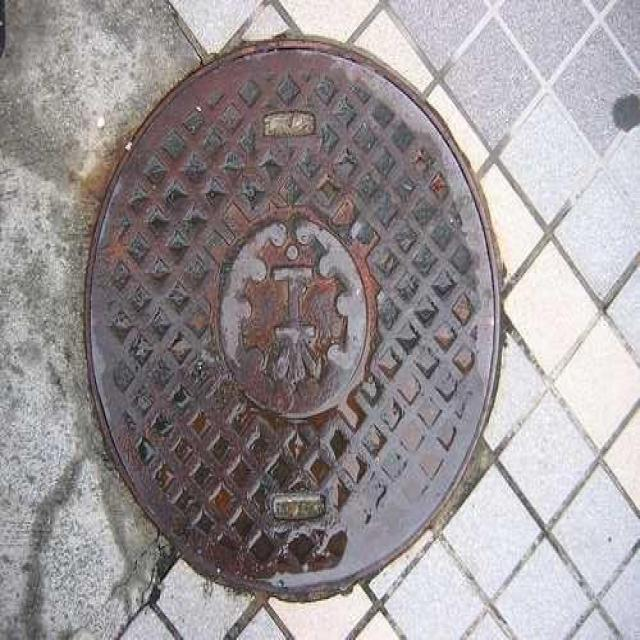manhole: (87, 38, 500, 600)
